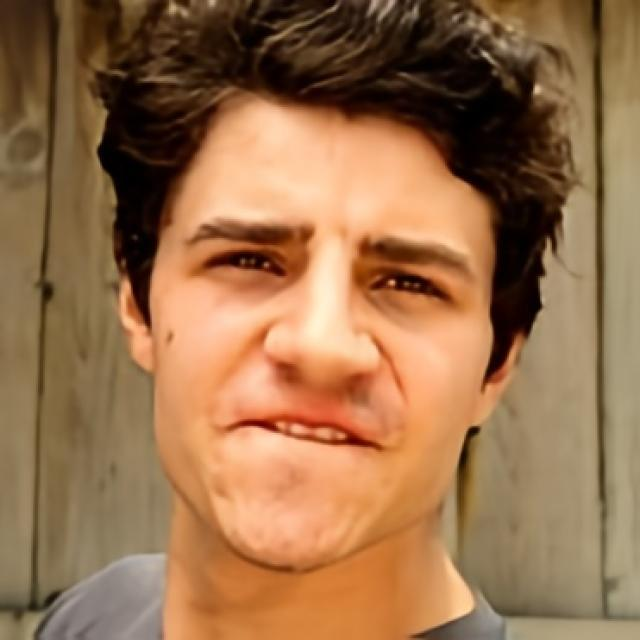disgust: (148, 86, 494, 576)
